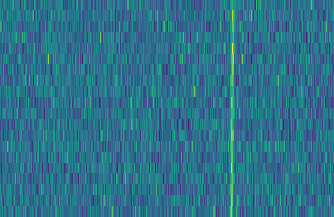signal: (227, 0, 237, 217)
